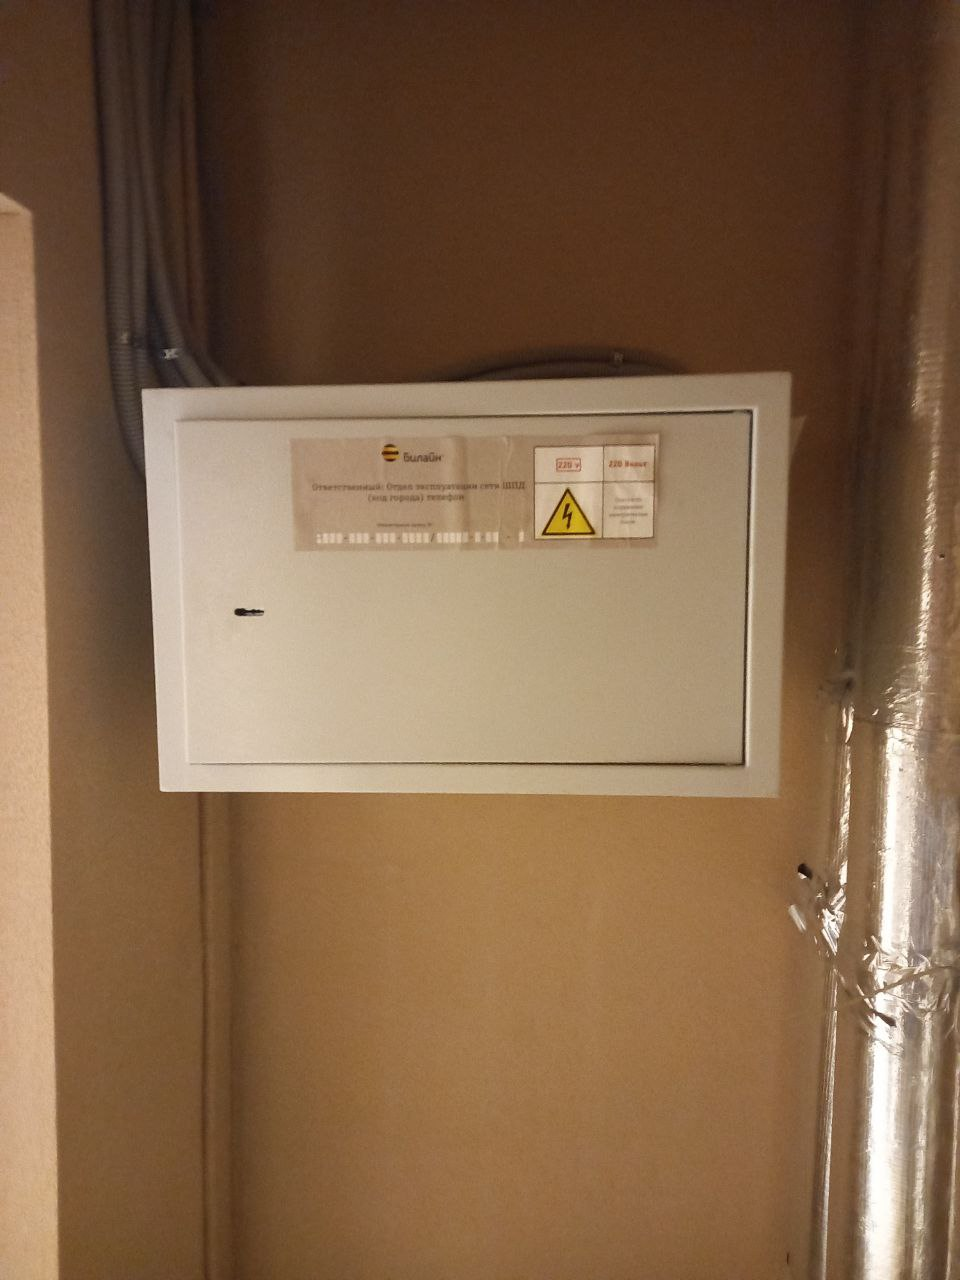shta-7m: (123, 363, 804, 808)
